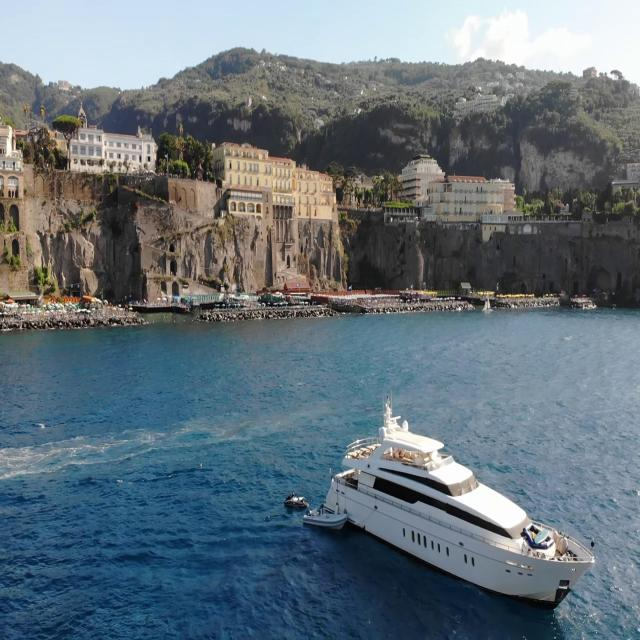boat: (322, 405, 596, 619), (303, 503, 345, 534), (285, 490, 307, 511)
